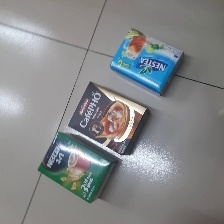CF pho: (68, 80, 151, 157)
Nes Rang: (36, 132, 118, 203)
Nestea: (109, 27, 186, 95)
